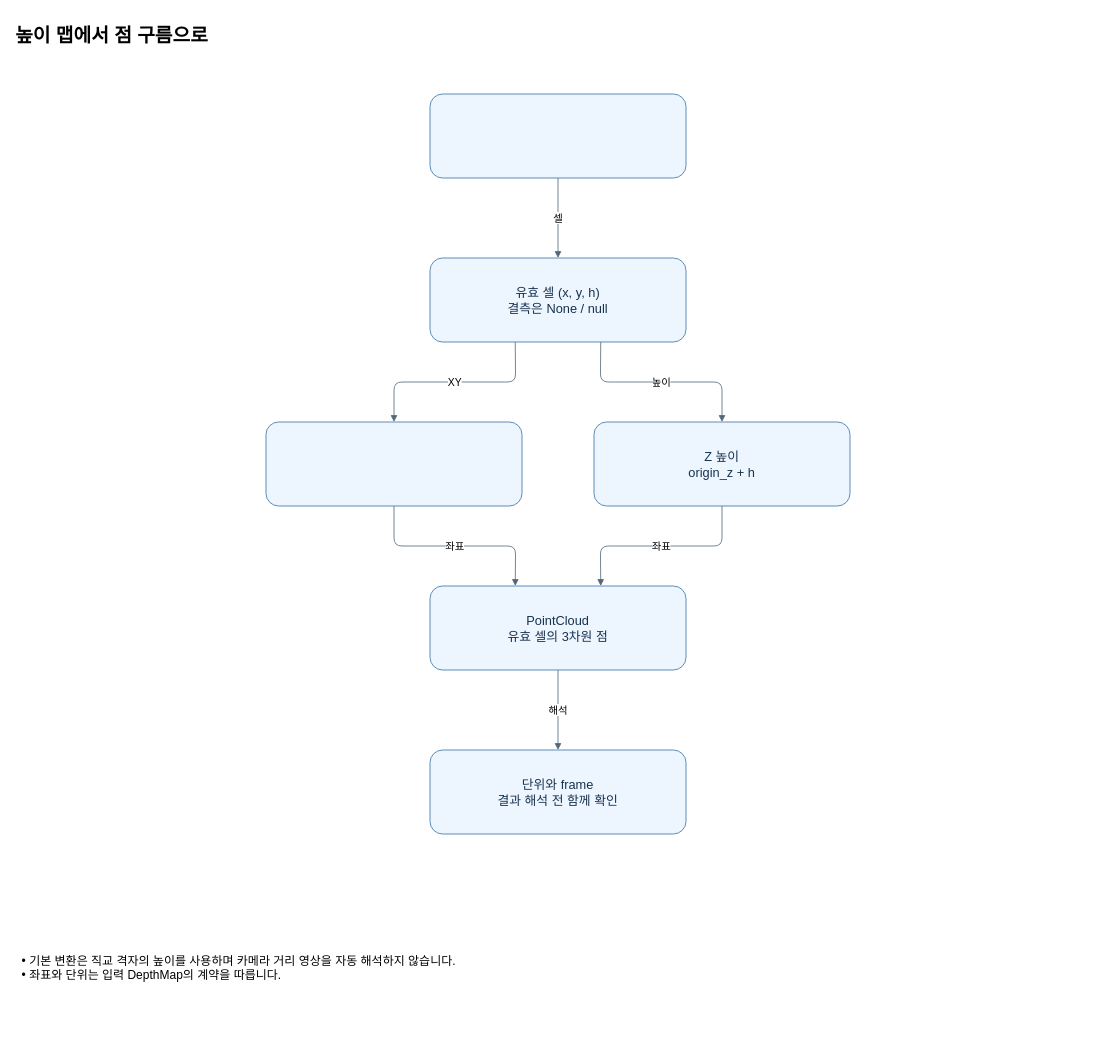
This 1115x1051 diagram has some shape labels left out. The centre of each missing label's shape, as x and y in pixels:
DepthMap 격자 양의 XY 간격과 XYZ 원점: (x=557, y=135)
XY 위치 origin + (x·spacing_x, y·spacing_y): (x=393, y=463)
